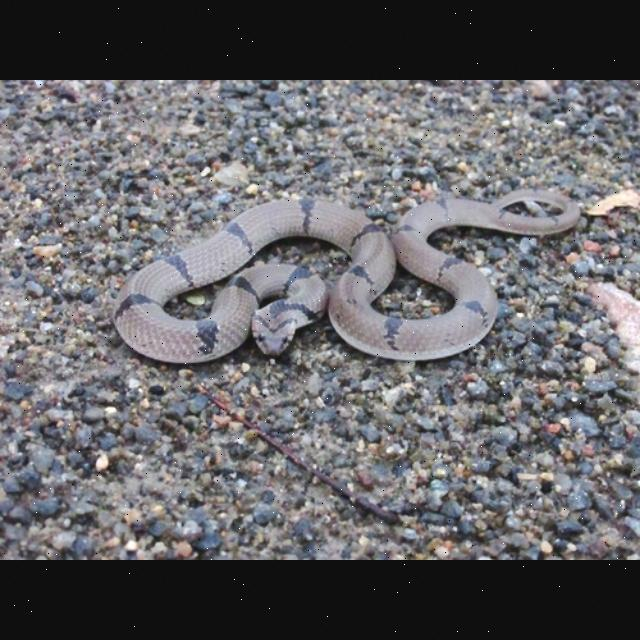snake: (108, 182, 590, 372)
